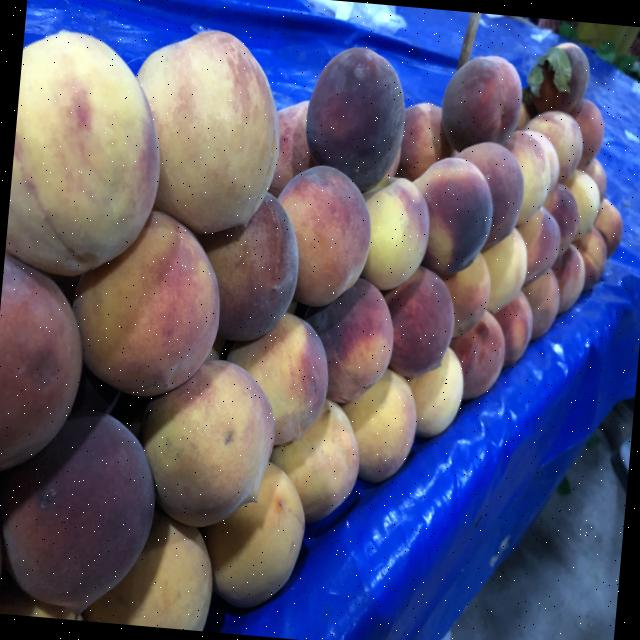peach: (5, 30, 159, 275), (136, 30, 278, 233), (73, 212, 219, 396), (140, 360, 274, 526), (195, 193, 297, 340), (277, 166, 370, 306), (296, 278, 393, 402), (413, 158, 492, 275), (381, 267, 453, 377), (362, 178, 429, 290)
